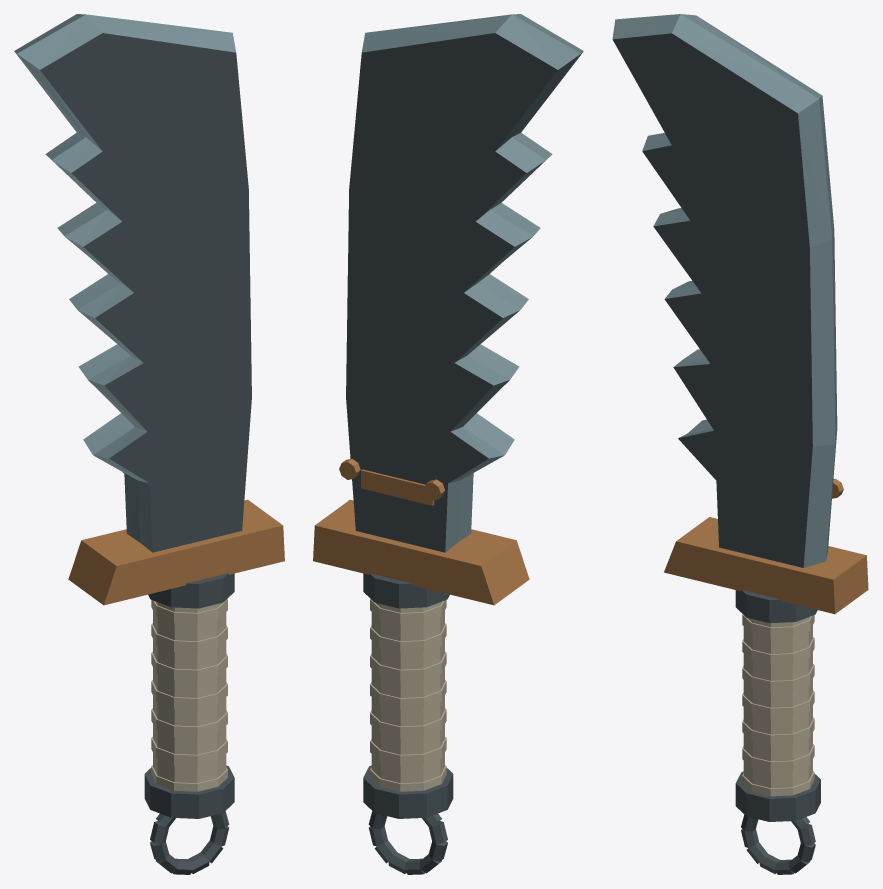
File: SWW_SawtoothBoarder.fbx
The picture shows the model from 3 angles, left to right: view 1: azimuth 30°, elevation 25°; view 2: azimuth 150°, elevation 25°; view 3: azimuth 330°, elevation 25°; orthographic projection. The views are drawn at different scales.
Parts seen in each view (by area): view 1: SWW_SawtoothBoarder; view 2: SWW_SawtoothBoarder; view 3: SWW_SawtoothBoarder.
Part boxes in pixels (bbox=[...]): SWW_SawtoothBoarder: bbox=[14, 14, 284, 874]; SWW_SawtoothBoarder: bbox=[313, 14, 583, 874]; SWW_SawtoothBoarder: bbox=[612, 14, 868, 874].
Bounding box in the file's own units: 0.29 × 0.9787 × 0.0866.
